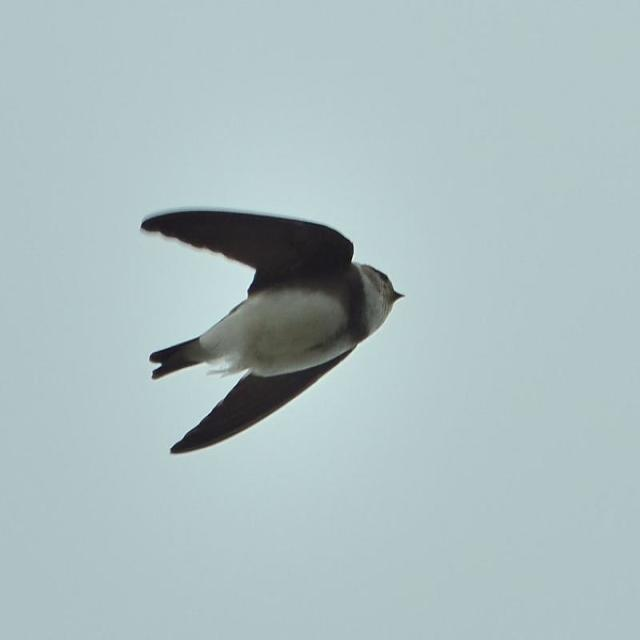bird: (128, 193, 410, 477)
